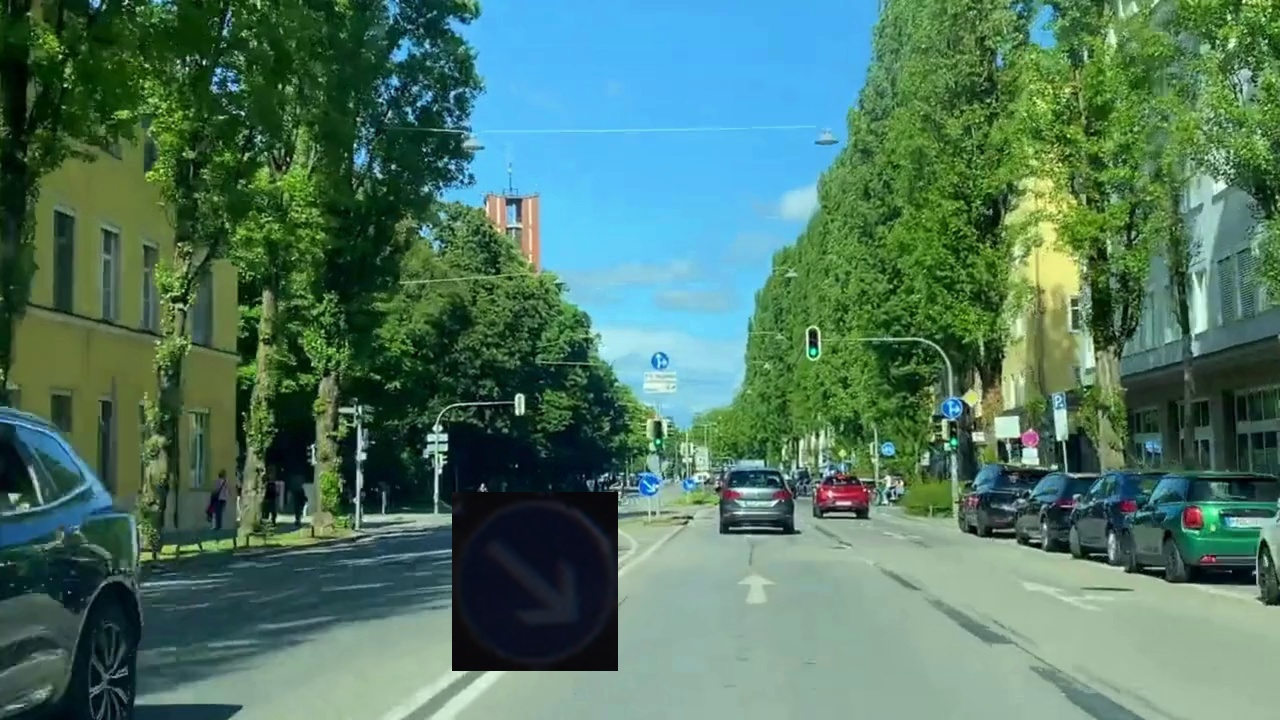Keep right: (452, 492, 618, 671)
